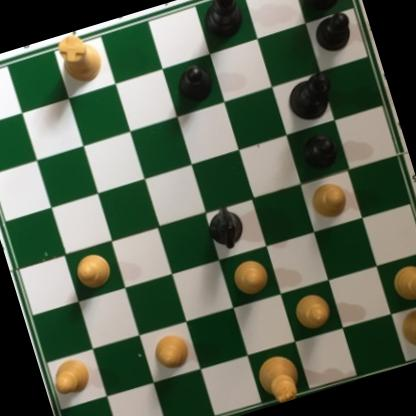black-bishop: (193, 0, 248, 47)
black-king: (279, 70, 339, 128)
black-knight: (200, 199, 248, 254)
black-pawn: (309, 8, 357, 56), (170, 61, 217, 109), (297, 130, 341, 174)
black-rook: (294, 0, 354, 17)
white-king: (246, 348, 306, 409)
white-pawn: (47, 350, 95, 399), (147, 327, 196, 375), (69, 247, 117, 295), (306, 176, 353, 224), (228, 254, 274, 302), (288, 288, 336, 334), (389, 260, 416, 306)
white-rook: (53, 27, 108, 89), (392, 296, 416, 360)
